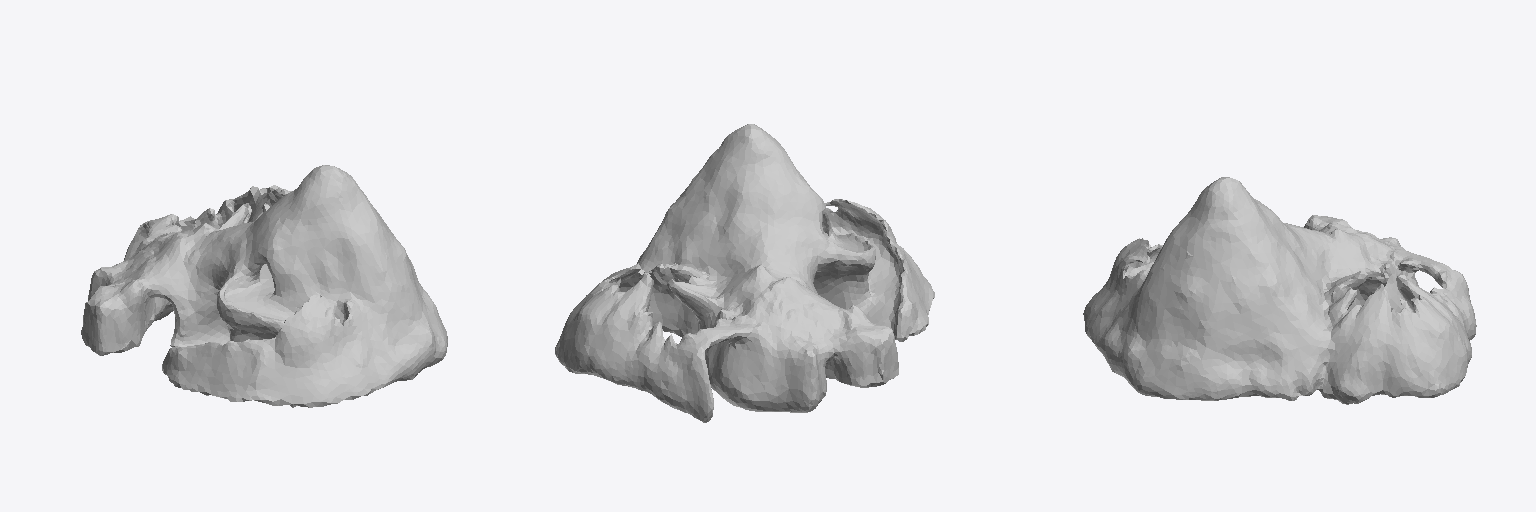
3 views of the same model, side by side, from view 1: azimuth 30°, elevation 25°; view 2: azimuth 150°, elevation 25°; view 3: azimuth 270°, elevation 25° (orthographic).
Visible parts, largest first — view 1: asdas; view 2: asdas; view 3: asdas.
Part boxes in pixels (left/top/right/bottom): asdas: left=81, top=165, right=447, bottom=407; asdas: left=555, top=124, right=934, bottom=422; asdas: left=1083, top=177, right=1476, bottom=404.
Bounding box in the file's own units: 199 × 129 × 232.